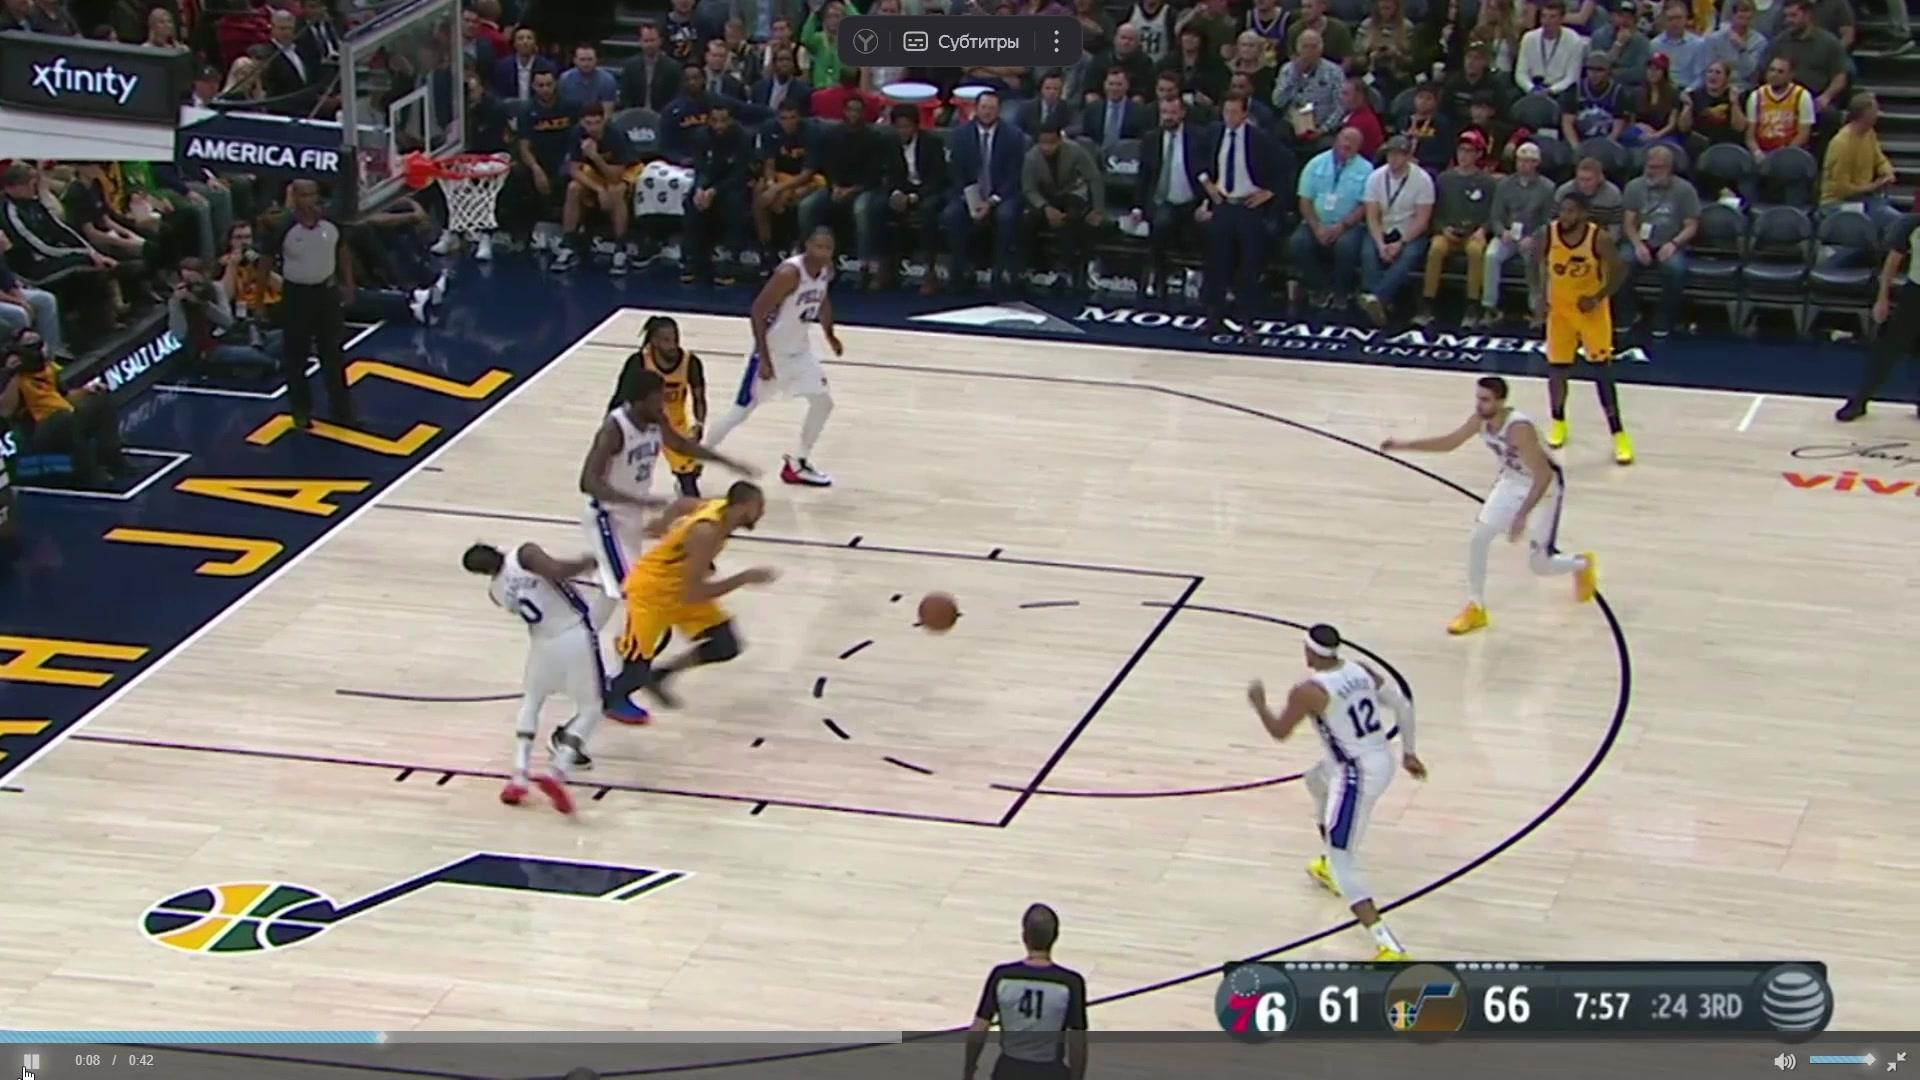foul: (444, 481, 803, 807)
